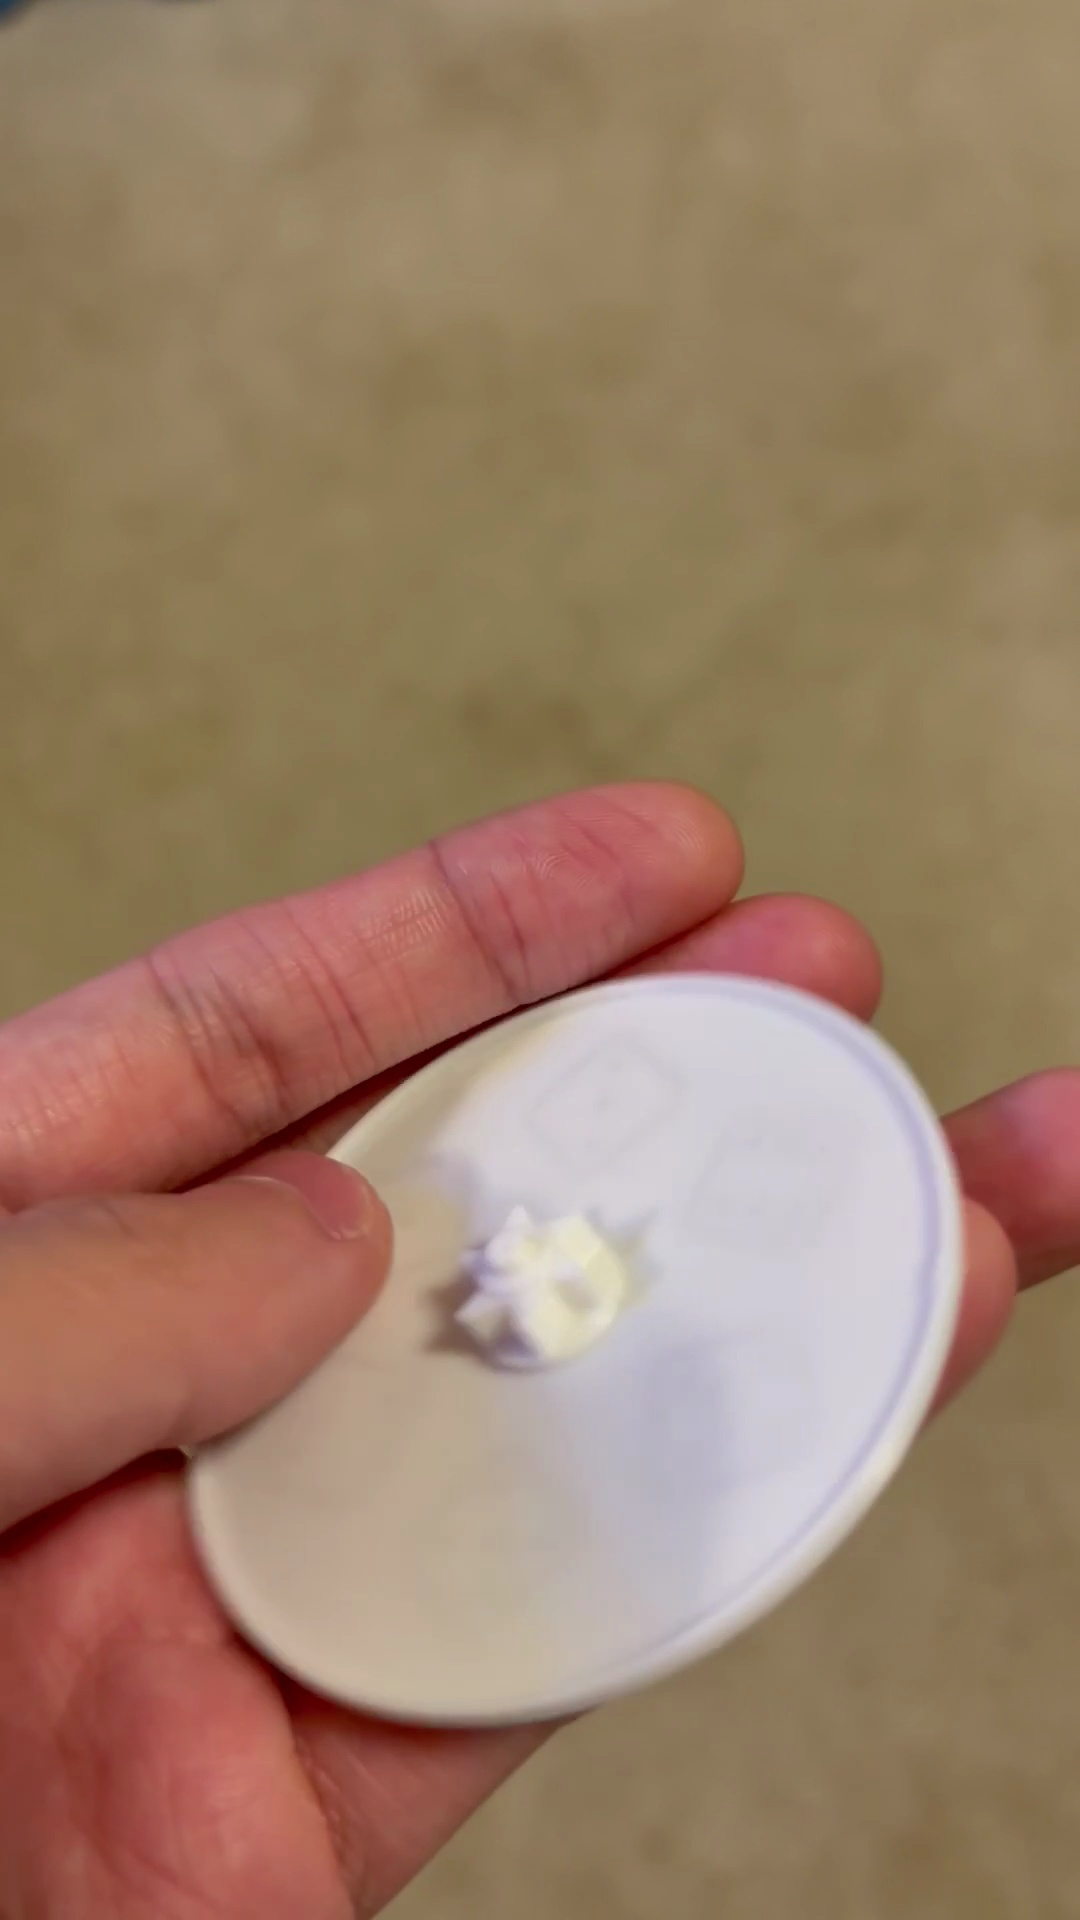Part1: (189, 975, 960, 1726)
